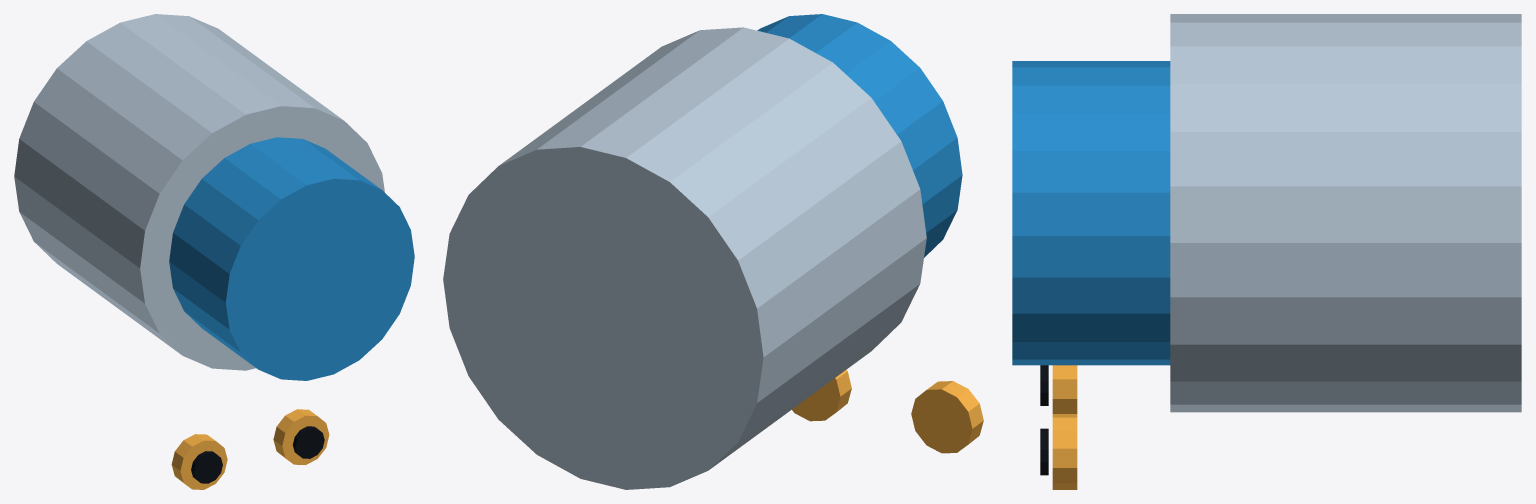
The model's file is 85_L90_StarTrackerTrajectoryMonitor.fbx.
The picture shows the model from 3 angles, left to right: view 1: azimuth 30°, elevation 25°; view 2: azimuth 150°, elevation 25°; view 3: azimuth 270°, elevation 25°; orthographic projection. The views are drawn at different scales.
Visible parts, largest first — view 1: L90_StarTrackerTrajectoryMonitor_Part_0000, L90_StarTrackerTrajectoryMonitor_Part_0001, L90_StarTrackerTrajectoryMonitor_Part_0004, L90_StarTrackerTrajectoryMonitor_Part_0002, L90_StarTrackerTrajectoryMonitor_Part_0003, L90_StarTrackerTrajectoryMonitor_Part_0005; view 2: L90_StarTrackerTrajectoryMonitor_Part_0000, L90_StarTrackerTrajectoryMonitor_Part_0001, L90_StarTrackerTrajectoryMonitor_Part_0002, L90_StarTrackerTrajectoryMonitor_Part_0004; view 3: L90_StarTrackerTrajectoryMonitor_Part_0000, L90_StarTrackerTrajectoryMonitor_Part_0001, L90_StarTrackerTrajectoryMonitor_Part_0004, L90_StarTrackerTrajectoryMonitor_Part_0002.
Boxes of the visible parts, x1,y1,x2,y2 form: L90_StarTrackerTrajectoryMonitor_Part_0000: [14, 14, 384, 370]; L90_StarTrackerTrajectoryMonitor_Part_0001: [169, 137, 414, 380]; L90_StarTrackerTrajectoryMonitor_Part_0004: [273, 409, 329, 464]; L90_StarTrackerTrajectoryMonitor_Part_0002: [171, 434, 227, 489]; L90_StarTrackerTrajectoryMonitor_Part_0003: [191, 451, 222, 483]; L90_StarTrackerTrajectoryMonitor_Part_0005: [293, 426, 324, 458]; L90_StarTrackerTrajectoryMonitor_Part_0000: [443, 27, 926, 489]; L90_StarTrackerTrajectoryMonitor_Part_0001: [757, 14, 962, 257]; L90_StarTrackerTrajectoryMonitor_Part_0002: [911, 381, 983, 453]; L90_StarTrackerTrajectoryMonitor_Part_0004: [792, 370, 851, 421]; L90_StarTrackerTrajectoryMonitor_Part_0000: [1170, 14, 1521, 412]; L90_StarTrackerTrajectoryMonitor_Part_0001: [1012, 61, 1170, 365]; L90_StarTrackerTrajectoryMonitor_Part_0004: [1052, 414, 1077, 489]; L90_StarTrackerTrajectoryMonitor_Part_0002: [1052, 365, 1077, 413].
Bounding box in the file's own units: 68.5 × 85.15 × 87.
